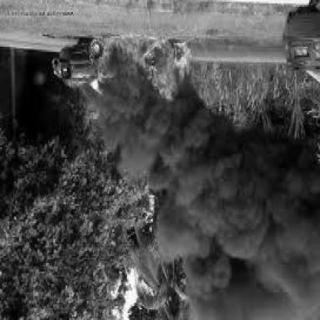Fire: (83, 26, 197, 130)
Smoke: (96, 105, 320, 318)
